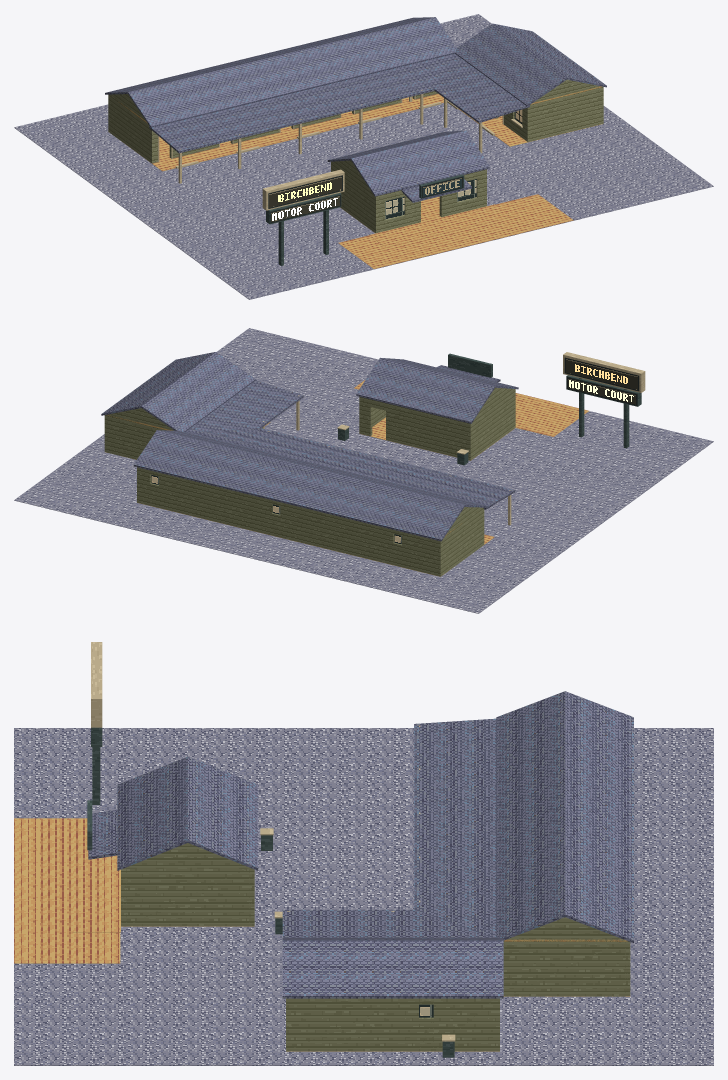
File: birchbend-1935-mid.glb
3 renders of one model, top to bottom at view 1: azimuth 30°, elevation 25°; view 2: azimuth 150°, elevation 25°; view 3: azimuth 270°, elevation 25°, orthographic. The views are drawn at different scales.
Visible parts, largest first — view 1: lot, shell, roadside_sign, sign_name_street, interior; view 2: shell, lot, roadside_sign, sign_name_exit, interior; view 3: lot, shell, roadside_sign.
Part boxes in pixels (bbox=[...]): lot: bbox=[14, 14, 713, 299]; shell: bbox=[105, 17, 606, 233]; roadside_sign: bbox=[262, 169, 344, 265]; sign_name_street: bbox=[268, 175, 342, 208]; interior: bbox=[109, 96, 603, 232]; shell: bbox=[101, 352, 518, 576]; lot: bbox=[14, 328, 713, 613]; roadside_sign: bbox=[563, 352, 645, 448]; sign_name_exit: bbox=[564, 357, 639, 391]; interior: bbox=[105, 417, 514, 576]; lot: bbox=[14, 728, 713, 1065]; shell: bbox=[87, 691, 633, 1051]; roadside_sign: bbox=[91, 642, 102, 804].
Size of the model in its own units: 35.8 by 5.83 by 31.4.
8 materials, 8 textured.
